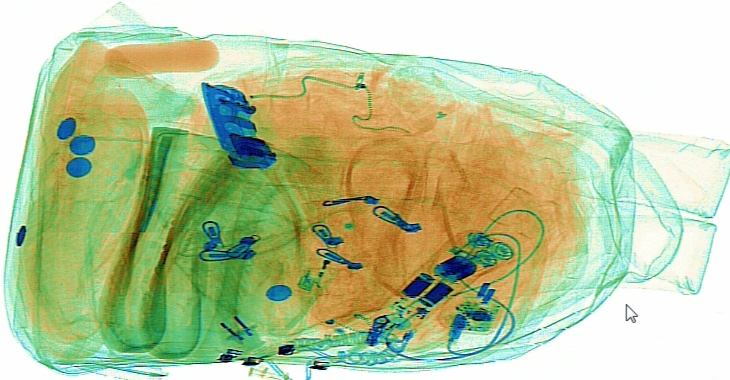lighter: (295, 212, 344, 295)
